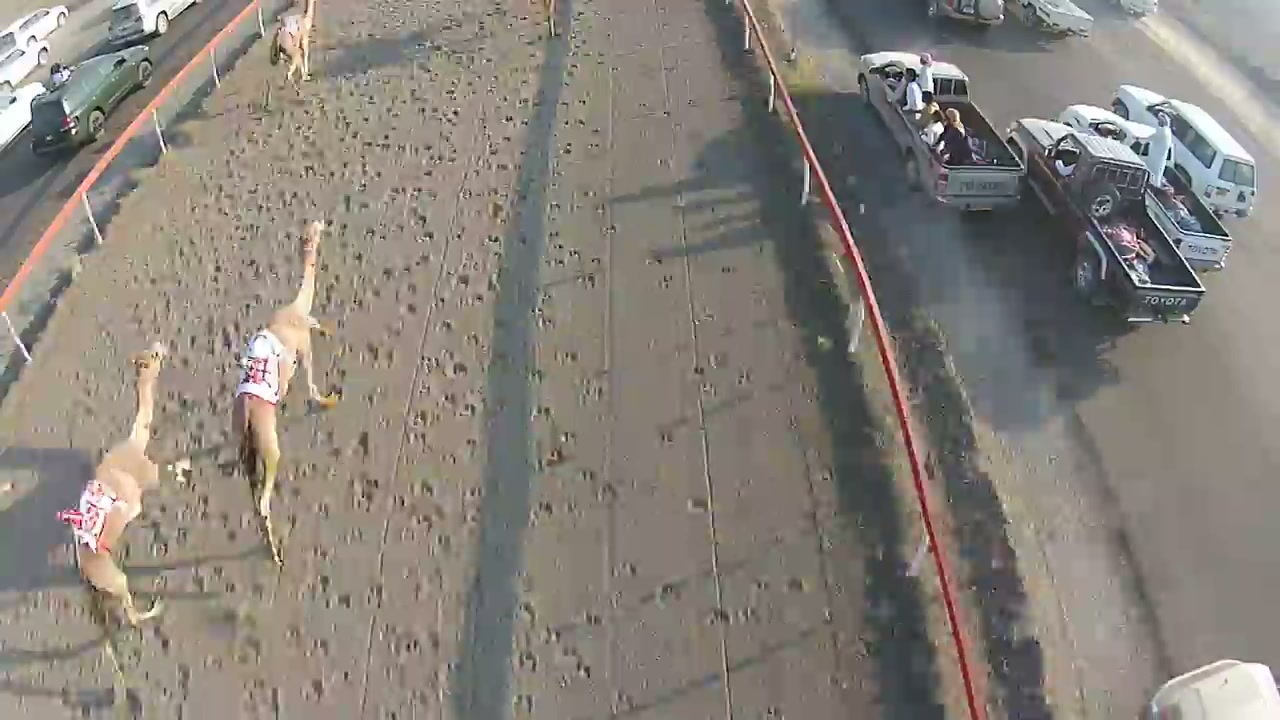animal_footprint: (295, 55, 528, 718), (138, 95, 377, 719), (468, 102, 646, 706)
